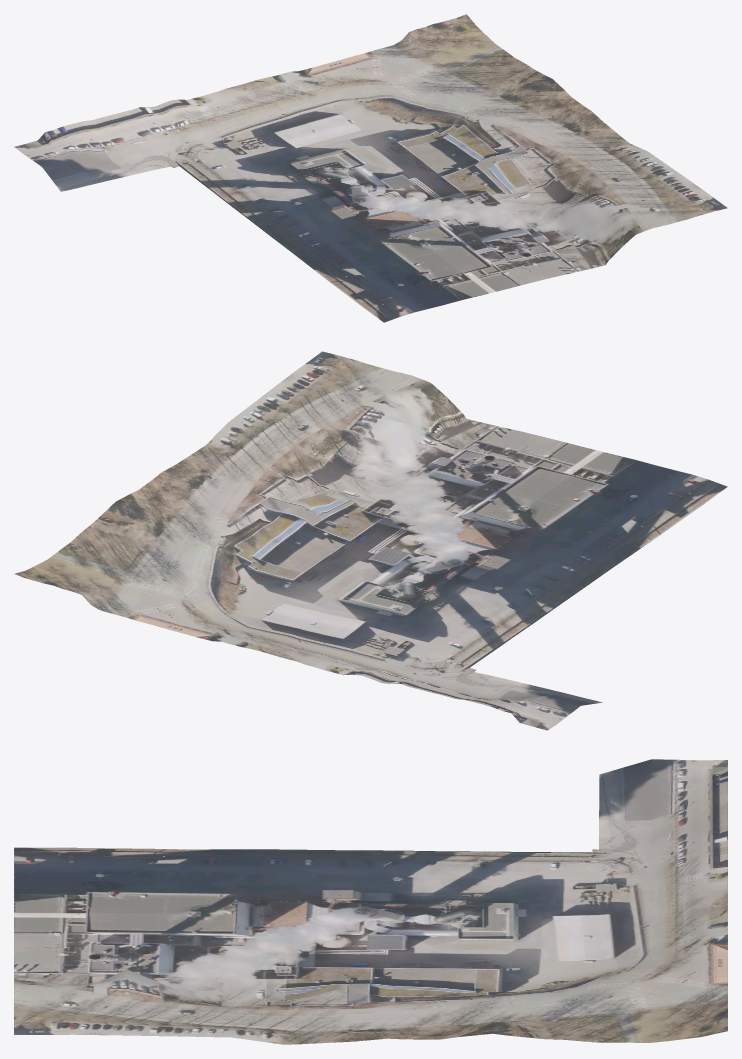
Rendered from CM_Terrain_24488001_6822251.fbx.
3 views of the same model, one above another, from view 1: azimuth 30°, elevation 25°; view 2: azimuth 150°, elevation 25°; view 3: azimuth 270°, elevation 25° (orthographic). The views are drawn at different scales.
Parts seen in each view (by area): view 1: CM_Terrain_24488001_6822251_LOD0; view 2: CM_Terrain_24488001_6822251_LOD0; view 3: CM_Terrain_24488001_6822251_LOD0.
Part boxes in pixels (x1,y1,x2,y2): CM_Terrain_24488001_6822251_LOD0: (14, 14, 727, 322); CM_Terrain_24488001_6822251_LOD0: (14, 351, 727, 730); CM_Terrain_24488001_6822251_LOD0: (14, 759, 727, 1044).
Size of what is drawn, in the model's own units: 205 by 14.75 by 205.
